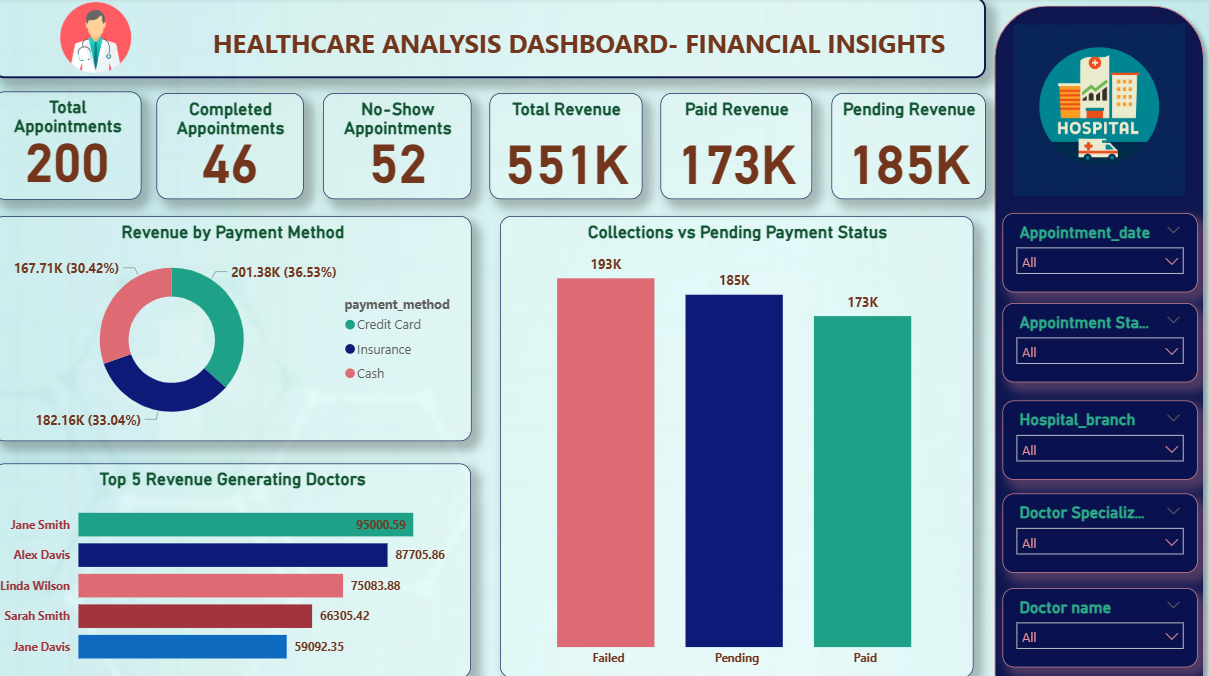

The page's visual inventory and layout, read from the dashboard file:
{"tool":"powerbi","page":{"name":"Dashboard 1","canvas":[1280,720],"ordinal":0},"visuals":[{"type":"shape","box":[1044.1,0,236,720.5],"z":0},{"type":"textbox","box":[9.4,0,1034.7,84.4],"z":1000},{"type":"image","box":[0,0,223.5,84.4],"z":2000},{"type":"image","box":[1061.3,23.4,203.2,189.1],"z":3000},{"type":"card","title":"Total Appointments","fields":{"Values":["CountNonNull(appointments.appointment_id)"]},"box":[9.4,98.5,154.7,112.5],"z":4000},{"type":"card","title":"Completed Appointments","fields":{"Values":["CountNonNull(appointments.appointment_id)"]},"box":[179.7,100,153.2,111],"z":5000},{"type":"card","title":"No-Show Appointments","fields":{"Values":["CountNonNull(appointments.appointment_id)"]},"box":[353.2,100,154.7,111],"z":6000},{"type":"card","title":"Total Revenue","fields":{"Values":["Sum(billing.amount)"]},"box":[526.7,100,159.4,111],"z":7000},{"type":"card","title":"Paid Revenue","fields":{"Values":["Sum(billing.amount)"]},"box":[704.9,100,157.9,111],"z":8000},{"type":"card","title":"Pending Revenue","fields":{"Values":["Sum(billing.amount)"]},"box":[883.1,100,161,111],"z":9000},{"type":"slicer","fields":{"Values":["appointments.appointment_date"]},"box":[1061.3,225.1,203.2,82.8],"z":10000},{"type":"slicer","fields":{"Values":["appointments.status"]},"box":[1061.3,318.8,203.2,82.8],"z":11000},{"type":"slicer","fields":{"Values":["doctors.hospital_branch"]},"box":[1061.3,420.4,203.2,82.8],"z":12000},{"type":"slicer","fields":{"Values":["doctors.specialization"]},"box":[1061.3,517.3,203.2,82.8],"z":13000},{"type":"slicer","fields":{"Values":["doctors.Full name"]},"box":[1061.3,615.8,203.2,82.8],"z":14000},{"type":"treemap","title":"Treatment Distribution by Type","fields":{"Group":["treatments.treatment_type"],"Values":["Sum(treatments.cost)"]},"box":[9.4,225.1,498.6,237.6],"z":15000},{"type":"lineChart","title":"Monthly Appointment Trend","fields":{"Category":["appointments.appointment_date.Variation.Date Hierarchy.Month"],"Y":["CountNonNull(appointments.appointment_id)"]},"box":[9.4,473.6,498.6,225.1],"z":16000},{"type":"lineChart","title":"Monthly Revenue Trend","fields":{"Category":["billing.bill_date.Variation.Date Hierarchy.Month"],"Y":["Sum(billing.amount)"]},"box":[526.7,473.6,517.3,225.1],"z":17000},{"type":"barChart","title":"Revenue by Hospital Branch","fields":{"Category":["doctors.hospital_branch"],"Y":["Sum(billing.amount)"]},"box":[526.7,225.1,517.3,237.6],"z":18000}]}

Visuals, with their boxes in screenshot pixels (x1, y1, x2, y2), scaled from the page's 1280x720 canvas onto the 1209x676 screenshot:
shape: [left=986, top=0, right=1208, bottom=675]
textbox: [left=9, top=0, right=986, bottom=79]
image: [left=0, top=0, right=211, bottom=79]
image: [left=1002, top=22, right=1194, bottom=200]
"Total Appointments" card: [left=9, top=92, right=155, bottom=198]
"Completed Appointments" card: [left=170, top=94, right=314, bottom=198]
"No-Show Appointments" card: [left=334, top=94, right=480, bottom=198]
"Total Revenue" card: [left=497, top=94, right=648, bottom=198]
"Paid Revenue" card: [left=666, top=94, right=815, bottom=198]
"Pending Revenue" card: [left=834, top=94, right=986, bottom=198]
slicer - appointments.appointment_date: [left=1002, top=211, right=1194, bottom=289]
slicer - appointments.status: [left=1002, top=299, right=1194, bottom=377]
slicer - doctors.hospital_branch: [left=1002, top=395, right=1194, bottom=472]
slicer - doctors.specialization: [left=1002, top=486, right=1194, bottom=563]
slicer - doctors.Full name: [left=1002, top=578, right=1194, bottom=656]
"Treatment Distribution by Type" treemap: [left=9, top=211, right=480, bottom=434]
"Monthly Appointment Trend" lineChart: [left=9, top=445, right=480, bottom=656]
"Monthly Revenue Trend" lineChart: [left=497, top=445, right=986, bottom=656]
"Revenue by Hospital Branch" barChart: [left=497, top=211, right=986, bottom=434]
